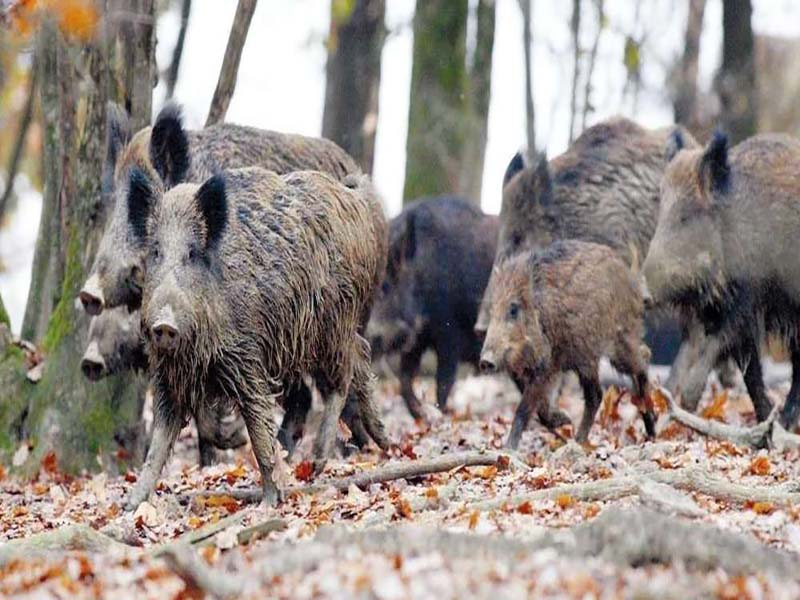cinghiale: (128, 163, 385, 485), (636, 130, 795, 438), (487, 233, 649, 453), (384, 208, 474, 418), (69, 108, 142, 308)
